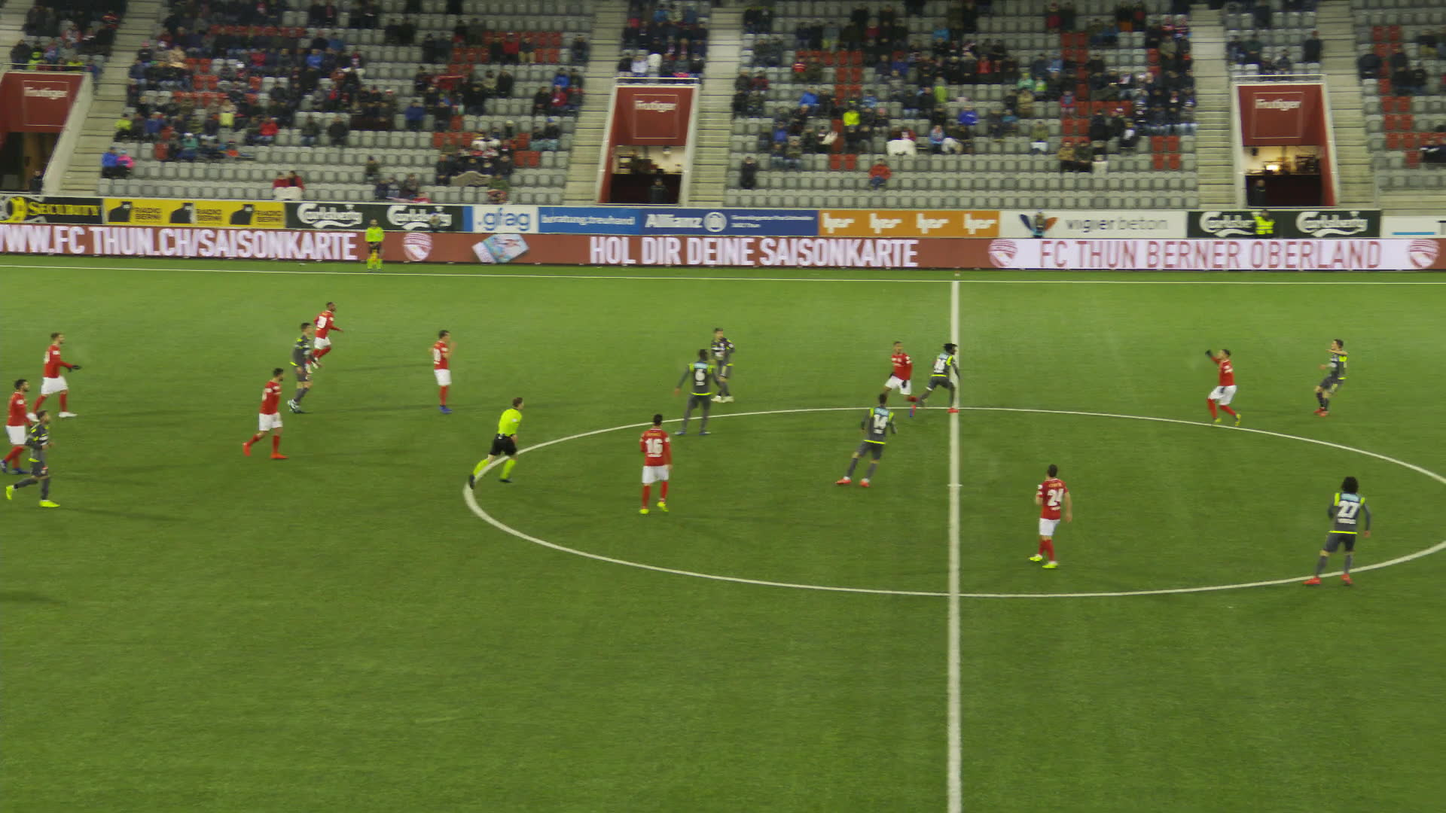ball: (813, 138, 830, 155)
player: (1304, 471, 1379, 594), (839, 387, 903, 493), (6, 406, 66, 509), (1023, 459, 1078, 570), (241, 365, 297, 461), (29, 327, 85, 422), (2, 370, 50, 478), (674, 346, 728, 439), (636, 409, 682, 516), (909, 340, 969, 420), (279, 319, 328, 416), (1304, 333, 1356, 424), (881, 333, 928, 416), (295, 301, 348, 374), (1200, 343, 1245, 427), (429, 327, 465, 413), (706, 326, 744, 406)
referee: (467, 394, 535, 497), (361, 215, 392, 271)
